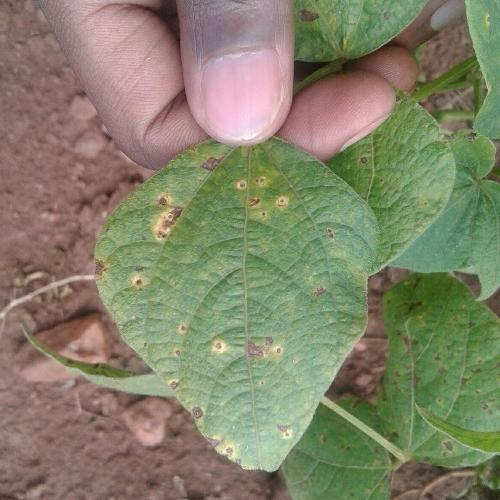hawar: (179, 316, 326, 374), (209, 168, 310, 226), (131, 178, 199, 240), (88, 256, 164, 302), (202, 423, 246, 464), (263, 416, 300, 462), (204, 146, 236, 188), (180, 399, 219, 426), (161, 372, 192, 396)
